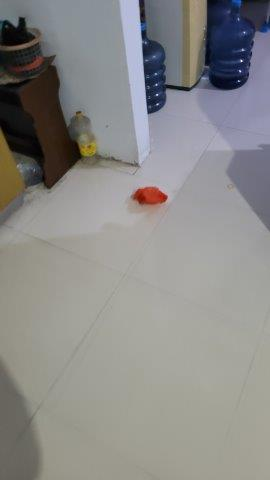plastik: (127, 186, 173, 210)
